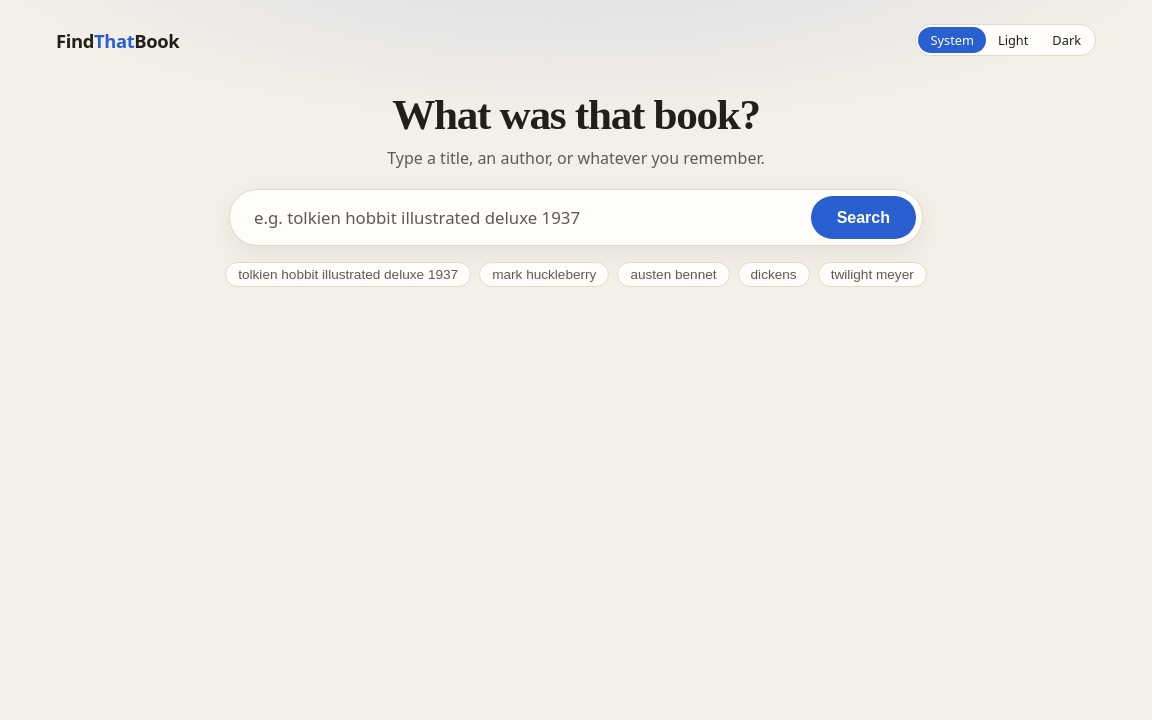
the empty state is an info toast that can be dismissed and returns after the next search
This screenshot has width=1152, height=720.
Type "zzzz" into the search field at (523, 218), box [236,196,811,239]
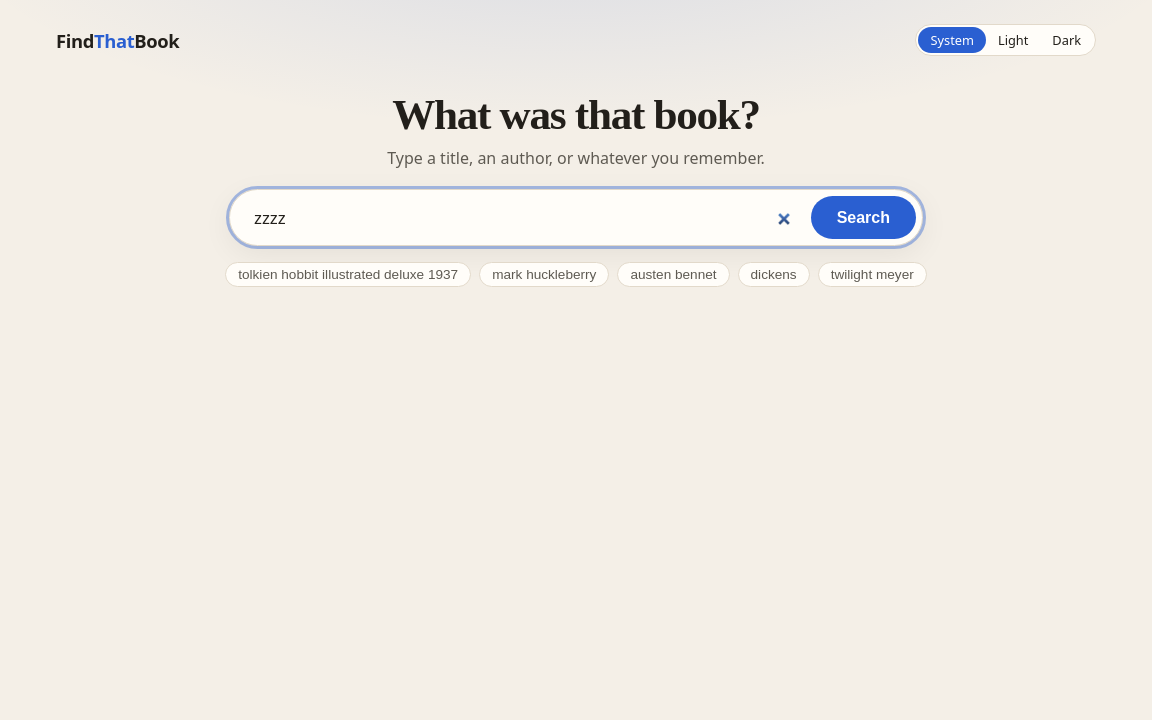
Click the button "Search" at (863, 218), box [811,196,916,239]
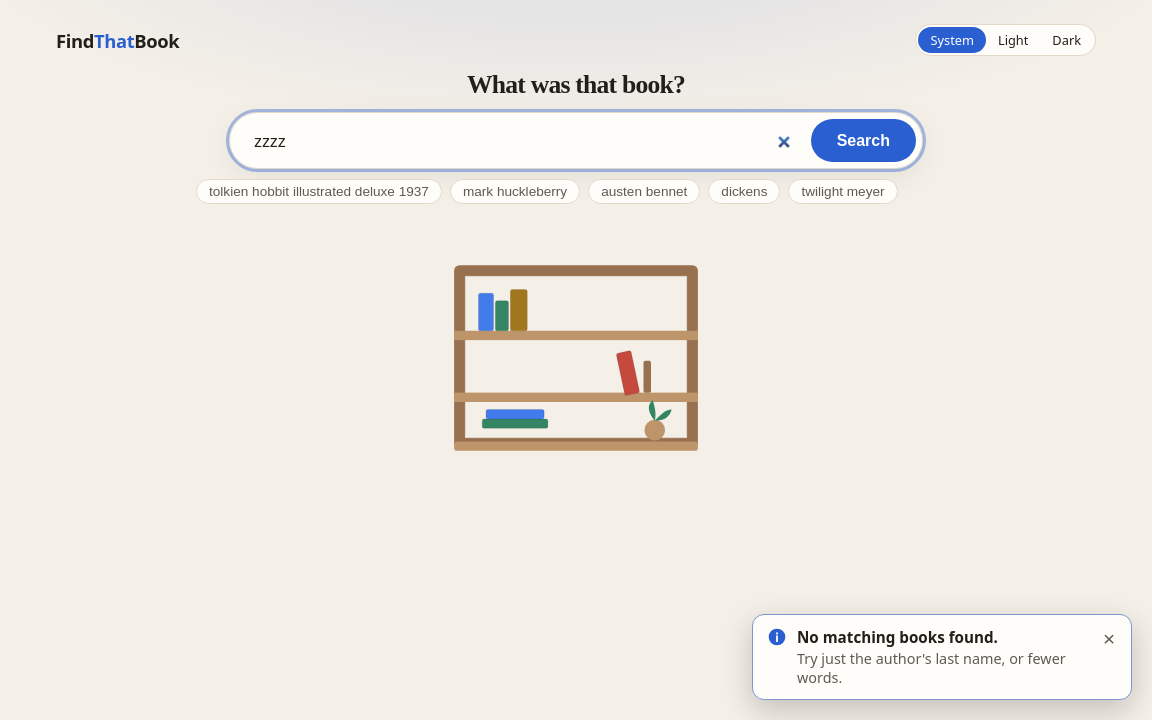
Result: the text "No matching books found." shows "Try just the author's last name, or fewer words." at [797,649,1066,687]
Click the button named "Dismiss" at (1109, 639), box [1097,627,1121,651]
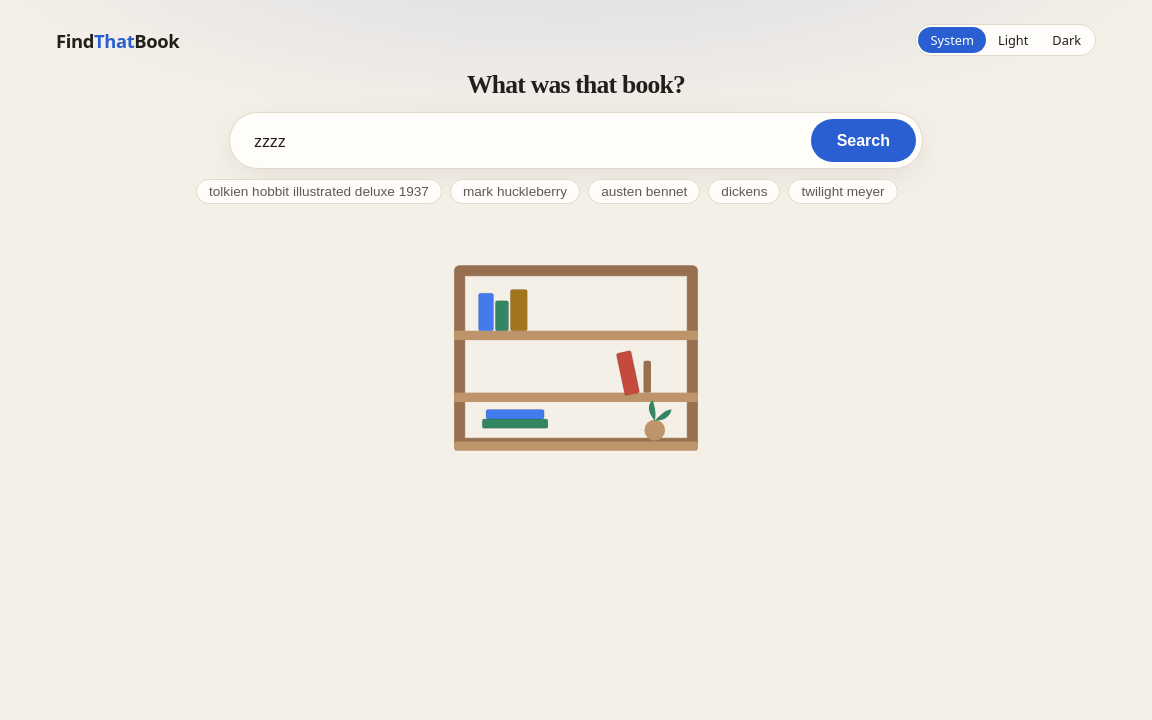
Result: the text "No matching books found." is gone
Click the button "Search" at (863, 140), box [811,119,916,162]
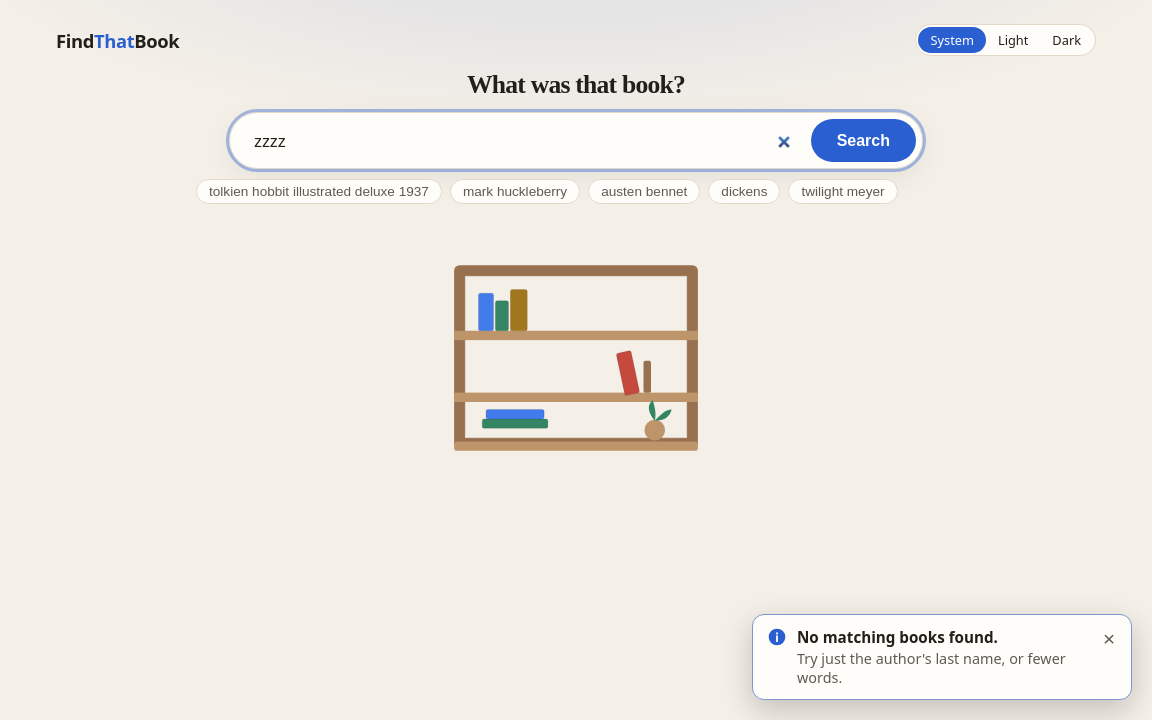
Result: the text "No matching books found." is shown at [797,627,998,647]
